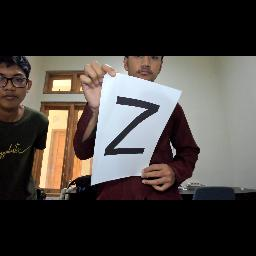z: (104, 92, 162, 158)
